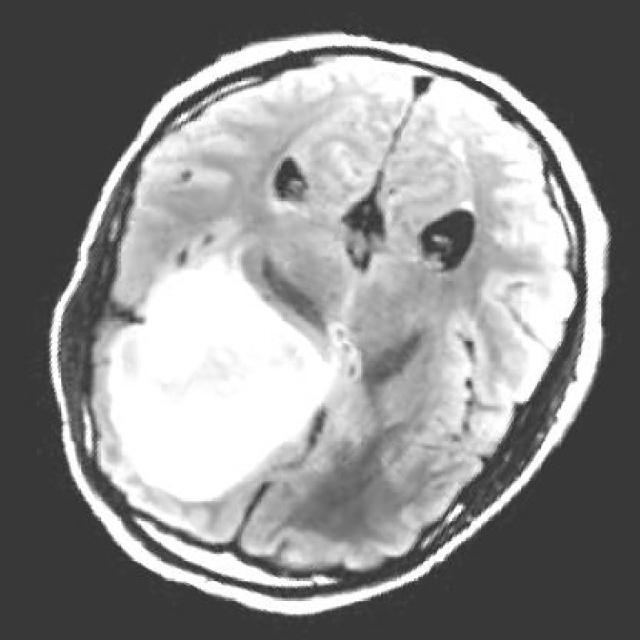Brain-Tumor: (98, 242, 336, 518)
